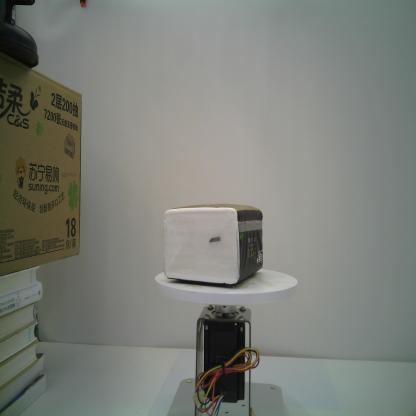Tissue: (162, 203, 264, 286)
